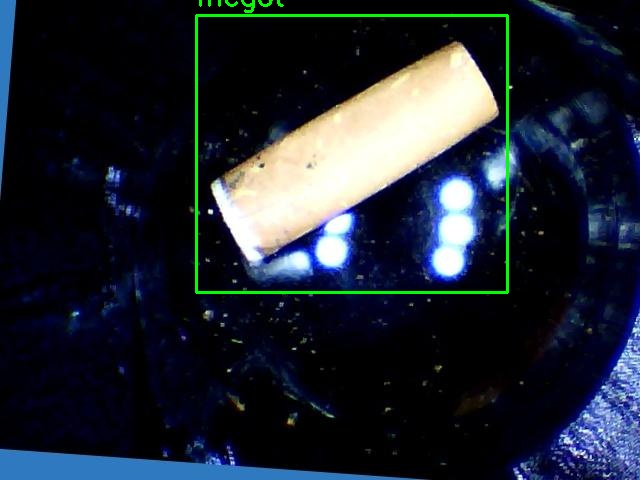megot: (196, 15, 507, 292)
